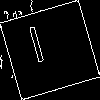I: (25, 25, 51, 73)
